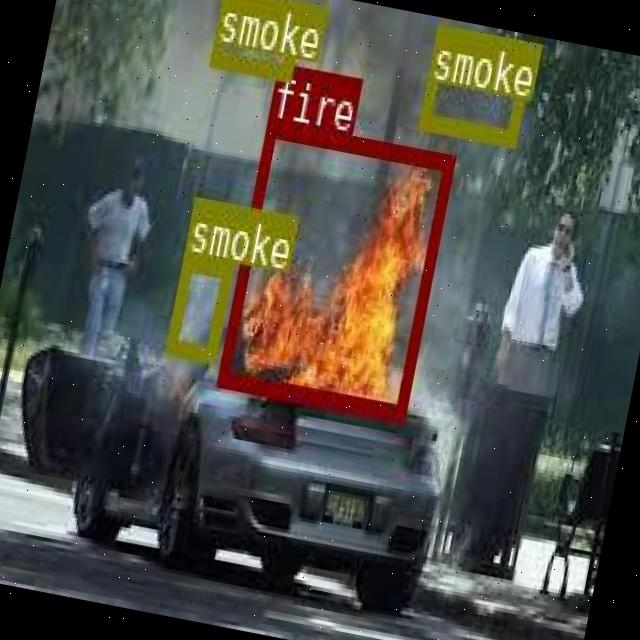fire: (216, 118, 454, 418)
smoke: (418, 24, 533, 143), (209, 0, 303, 78), (165, 252, 232, 358)
